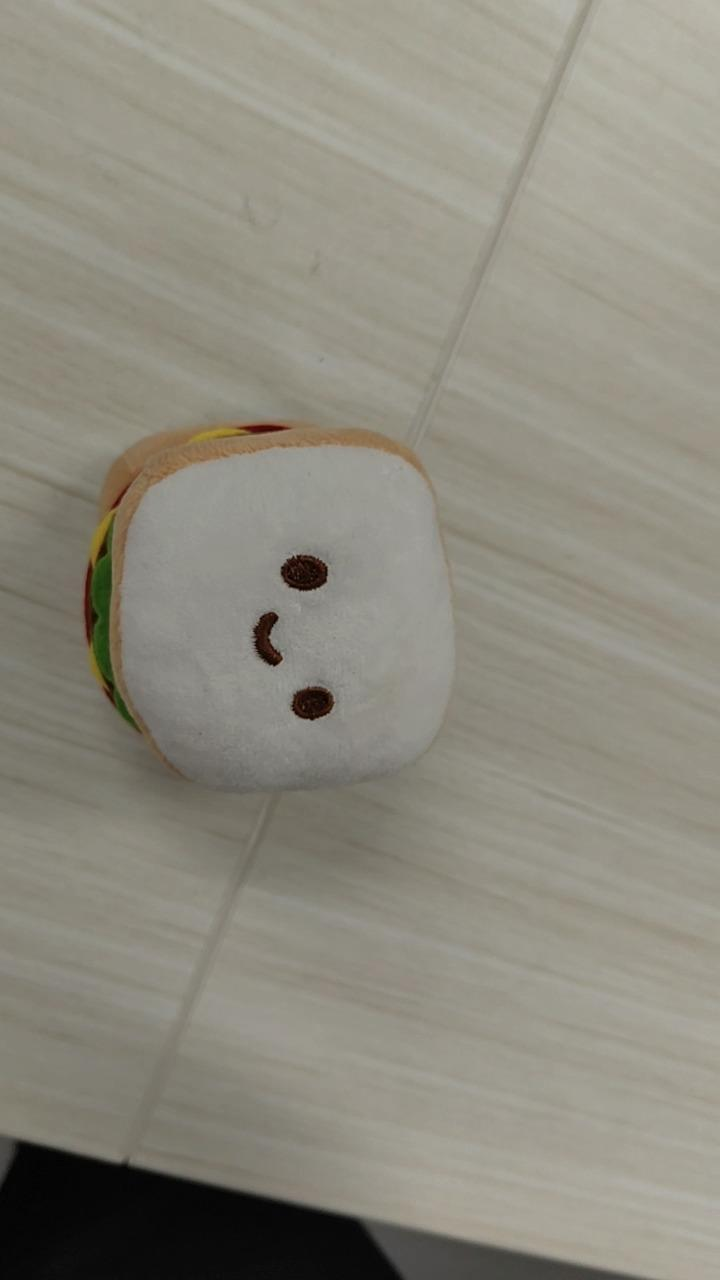objects: (82, 418, 457, 793)
